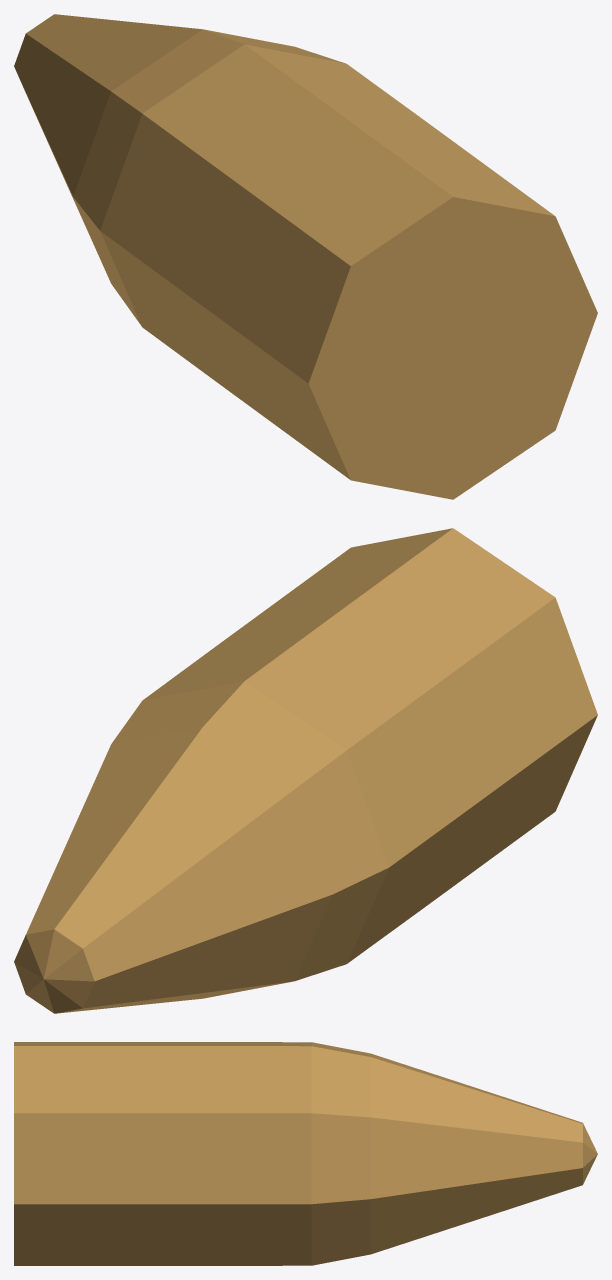
File: bullet.glb
3 views of the same model, one above another, from view 1: azimuth 30°, elevation 25°; view 2: azimuth 150°, elevation 25°; view 3: azimuth 270°, elevation 25° (orthographic). The views are drawn at different scales.
Visible parts, largest first — view 1: 792x33-kurz-bullet; view 2: 792x33-kurz-bullet; view 3: 792x33-kurz-bullet.
Part boxes in pixels (x1=…): 792x33-kurz-bullet: x1=14, y1=14, x2=597, y2=499; 792x33-kurz-bullet: x1=14, y1=528, x2=597, y2=1013; 792x33-kurz-bullet: x1=14, y1=1042, x2=597, y2=1265.
Size of the model in its own units: 0.00988 by 0.00988 by 0.0242.
